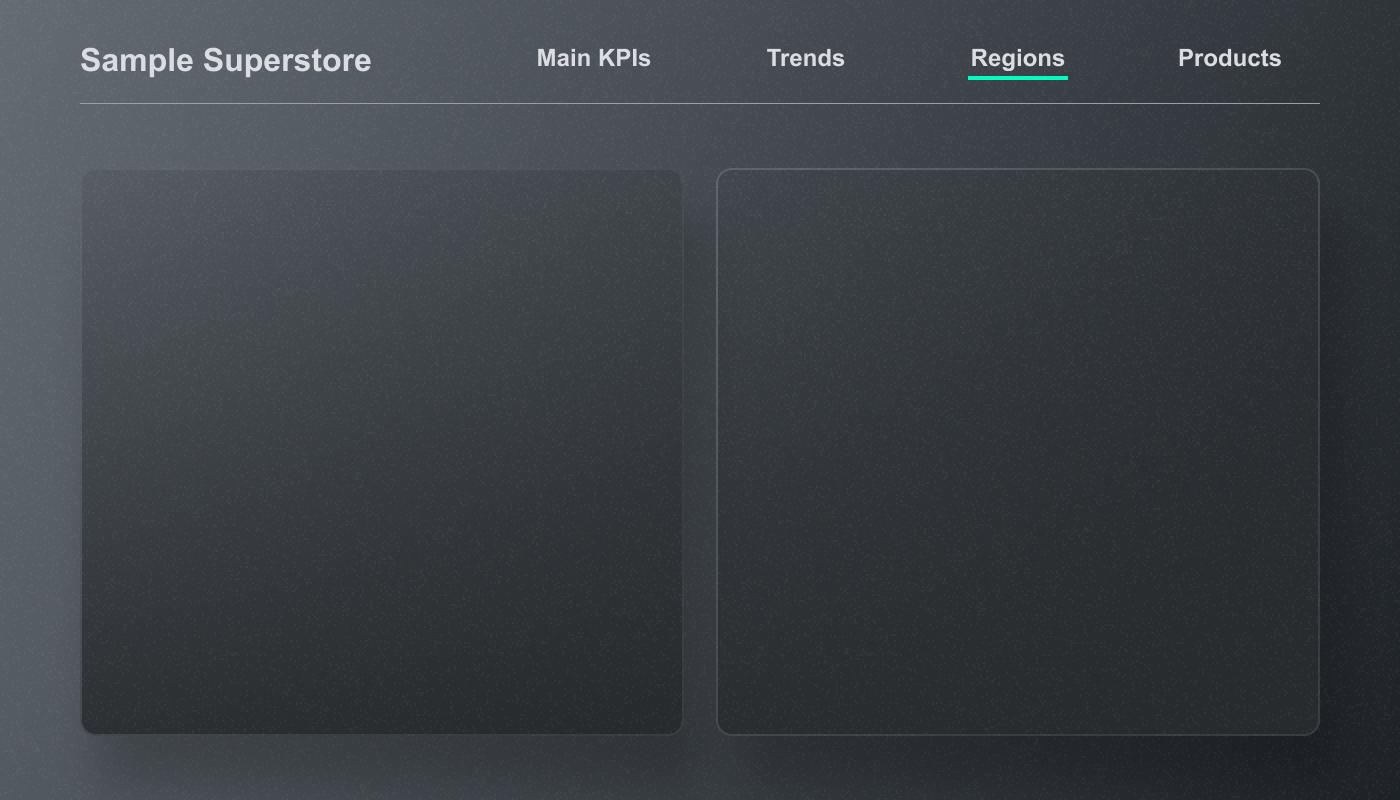

The dashboard page shown, as its layout file describes it:
{"tool":"tableau","page":{"name":"Regional Analysis","canvas":[1400,800],"ordinal":2},"visuals":[{"type":"image","param":"Image/Region Analysis.png","box":[0,0,1400,800]},{"type":"dashboard-object","box":[1160,136,24,24]},{"type":"worksheet","title":"Reset Filters","mark":"Shape","cols":["Calculation_707909609538879489"],"box":[1216,136,24,24]},{"type":"dashboard-object","box":[1272,136,24,24]},{"type":"filter","title":"Regions","param":"[federated.0edz2lz09zrftf18khcru1ptet20].[yr:Order Date:ok]","box":[1120,181,174,54]},{"type":"dashboard-object","box":[64,200,100,64]},{"type":"worksheet","title":"States","mark":"Automatic","box":[792,224,487,455]},{"type":"worksheet","title":"Regions","mark":"Bar","rows":["Region","Calculation_707909609555533826"],"cols":["Order Date"],"box":[221,226,486,454]},{"type":"filter","title":"Regions","param":"[federated.0edz2lz09zrftf18khcru1ptet20].[none:Category:nk]","box":[1120,235,174,54]},{"type":"parameter","param":"[Parameters].[Parameter 1]","box":[797,258,127,46]},{"type":"dashboard-object","box":[64,264,100,64]},{"type":"filter","title":"Regions","param":"[federated.0edz2lz09zrftf18khcru1ptet20].[none:Sub-Category:nk]","box":[1120,289,174,54]},{"type":"dashboard-object","box":[64,328,100,64]},{"type":"filter","title":"Regions","param":"[federated.0edz2lz09zrftf18khcru1ptet20].[none:State/Province:nk]","box":[1120,343,174,54]},{"type":"dashboard-object","box":[64,392,100,64]},{"type":"filter","title":"Regions","param":"[federated.0edz2lz09zrftf18khcru1ptet20].[none:City:nk]","box":[1120,397,174,54]},{"type":"filter","title":"Regions","param":"[federated.0edz2lz09zrftf18khcru1ptet20].[none:Segment:nk]","box":[1120,451,174,54]},{"type":"dashboard-object","box":[64,456,100,64]},{"type":"legend","title":"States","param":"[federated.0edz2lz09zrftf18khcru1ptet20].[usr:Calculation_707909609555533826:qk]","box":[792,644,490,44]}]}

Visuals, with their boxes in screenshot pixels (x1, y1, x2, y2), scaled from the page's 1400x800 canvas onto the 1400x800 screenshot:
image: detection(0, 0, 1399, 799)
dashboard-object: detection(1160, 136, 1184, 160)
"Reset Filters" worksheet (Shape marks): detection(1216, 136, 1240, 160)
dashboard-object: detection(1272, 136, 1296, 160)
"Regions" filter: detection(1120, 181, 1294, 235)
dashboard-object: detection(64, 200, 164, 264)
"States" worksheet: detection(792, 224, 1279, 679)
"Regions" worksheet (Bar marks): detection(221, 226, 707, 680)
"Regions" filter: detection(1120, 235, 1294, 289)
parameter: detection(797, 258, 924, 304)
dashboard-object: detection(64, 264, 164, 328)
"Regions" filter: detection(1120, 289, 1294, 343)
dashboard-object: detection(64, 328, 164, 392)
"Regions" filter: detection(1120, 343, 1294, 397)
dashboard-object: detection(64, 392, 164, 456)
"Regions" filter: detection(1120, 397, 1294, 451)
"Regions" filter: detection(1120, 451, 1294, 505)
dashboard-object: detection(64, 456, 164, 520)
"States" legend: detection(792, 644, 1282, 688)
